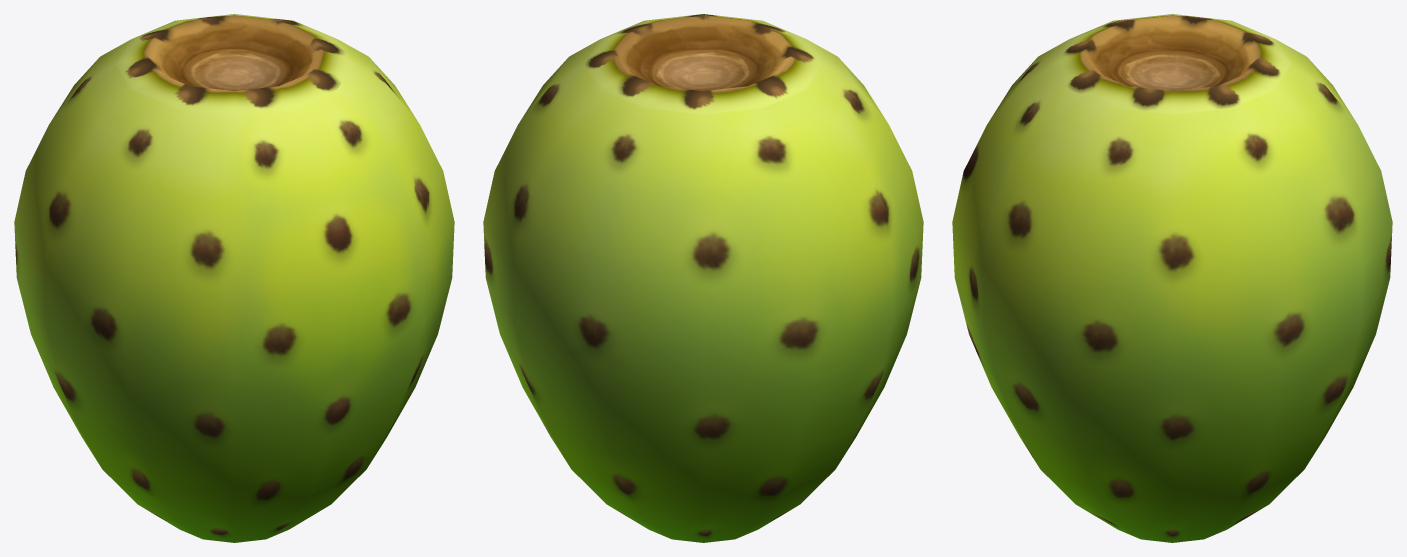
Rendered from PricklyPear_Green.fbx.
3 views of the same model, side by side, from view 1: azimuth 30°, elevation 25°; view 2: azimuth 150°, elevation 25°; view 3: azimuth 270°, elevation 25° (orthographic).
Visible parts, largest first — view 1: PricklyPear_Green; view 2: PricklyPear_Green; view 3: PricklyPear_Green.
Part boxes in pixels (x1,y1,x2,y2): PricklyPear_Green: (14,14,454,542); PricklyPear_Green: (483,14,923,542); PricklyPear_Green: (952,14,1392,542).
Size of the model in its own units: 28.1 by 33.91 by 28.1.
